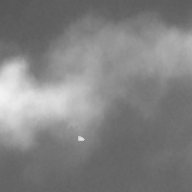Target: (77, 135, 86, 142)
